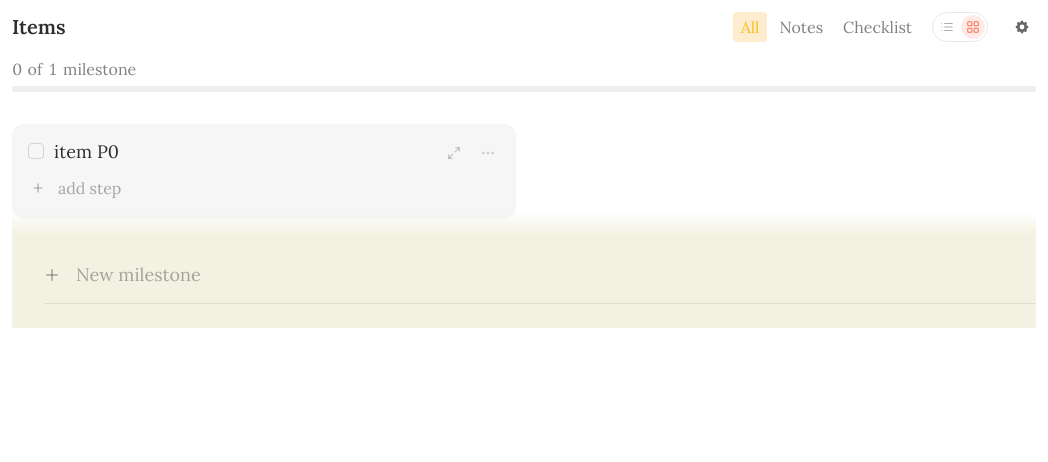
Test case: Todo new-milestone composer › should open a collapsed traced milestone when a step arrives
Check: the text "item P0" is shown, box [54,140,119,163]
Click the button "New milestone": (138, 274) [44,247,1036,304]
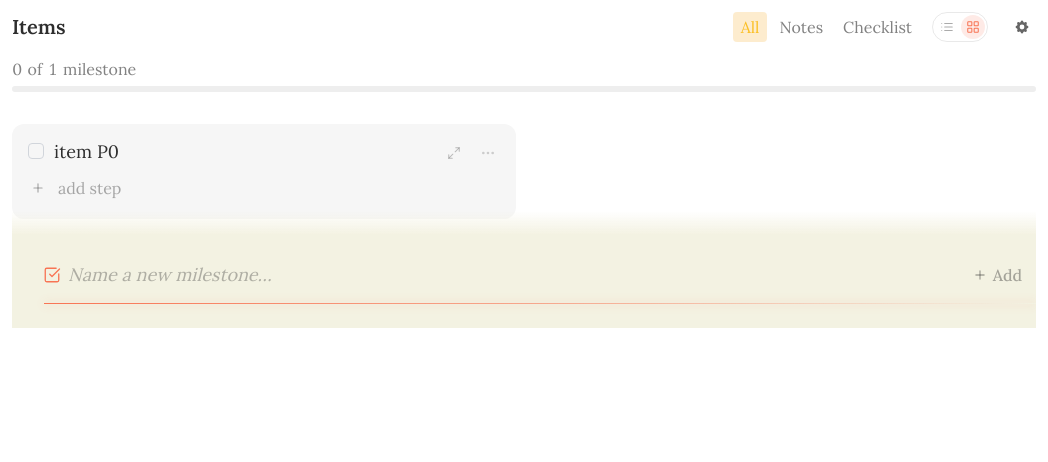
In the field labelled "Name a new milestone": (507, 275) [68,259,947,291], type "Launch"
Then press Enter
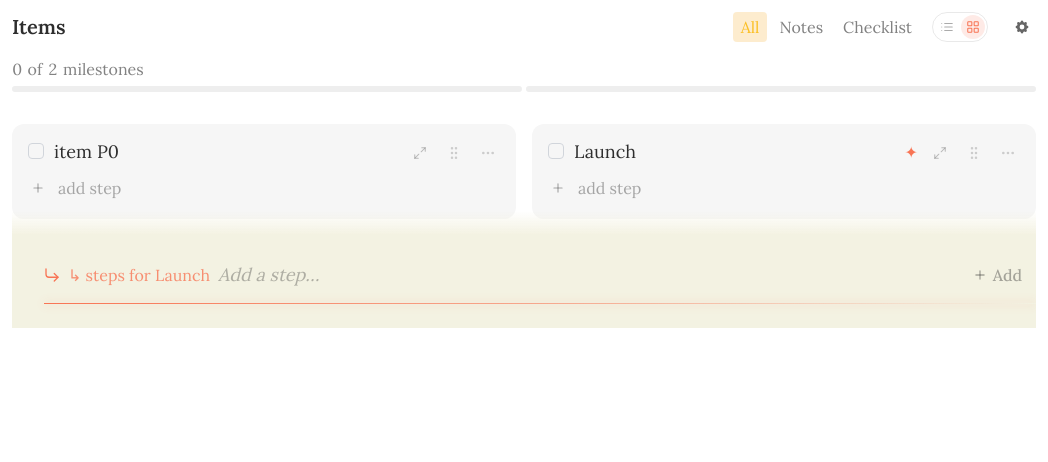
In the field with placeholder "Add a step…": (582, 275) [218,259,947,291], type "Write copy"
Then press Enter
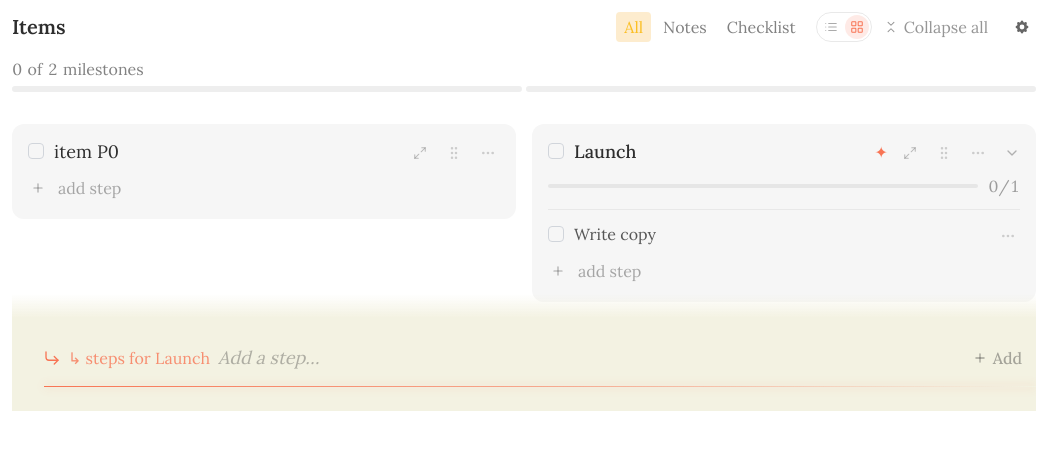
Click the button named "Collapse Launch": (1012, 153) [1000,141,1024,165]
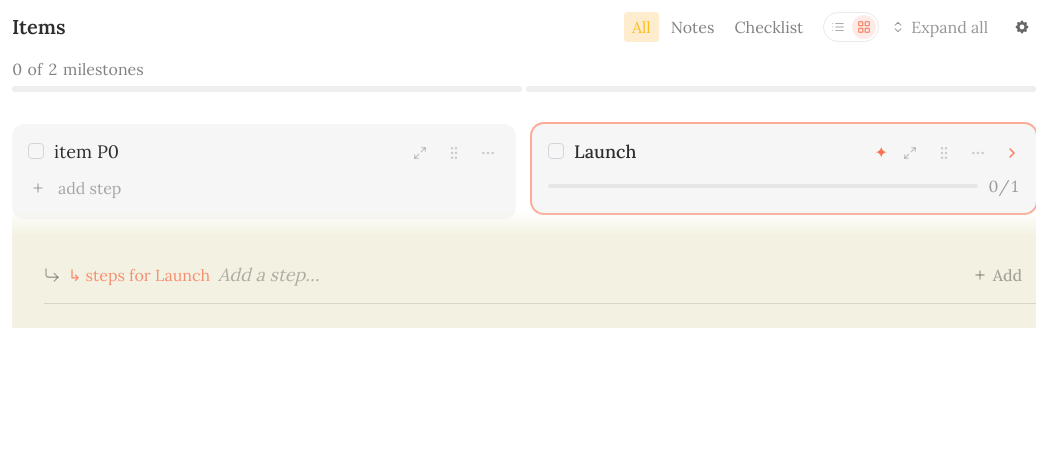
Check: the text "Write copy" is gone
In the field with placeholder "Add a step…": (582, 275) [218,259,947,291], type "Ship it"
Then press Enter
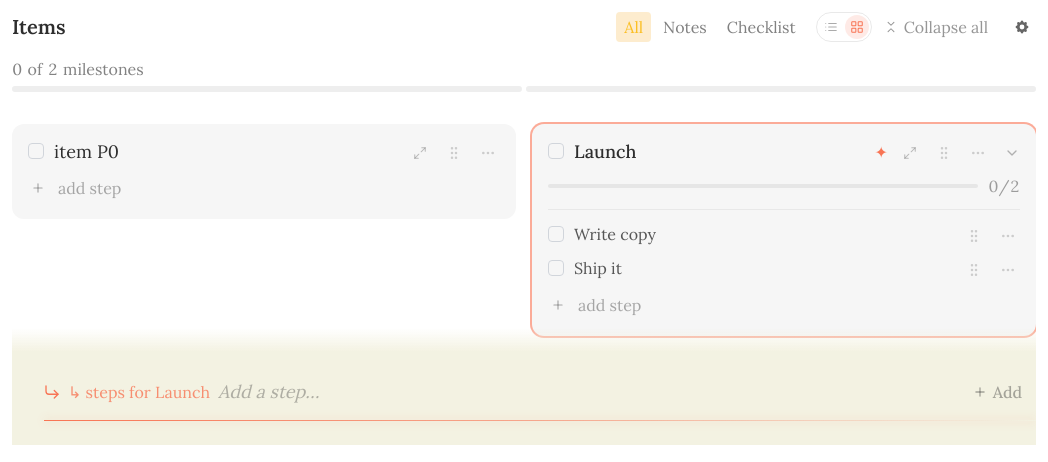
Check: the text "Write copy" is shown, box [574,224,656,244]
Check: the text "Ship it" is shown, box [574,258,622,278]
